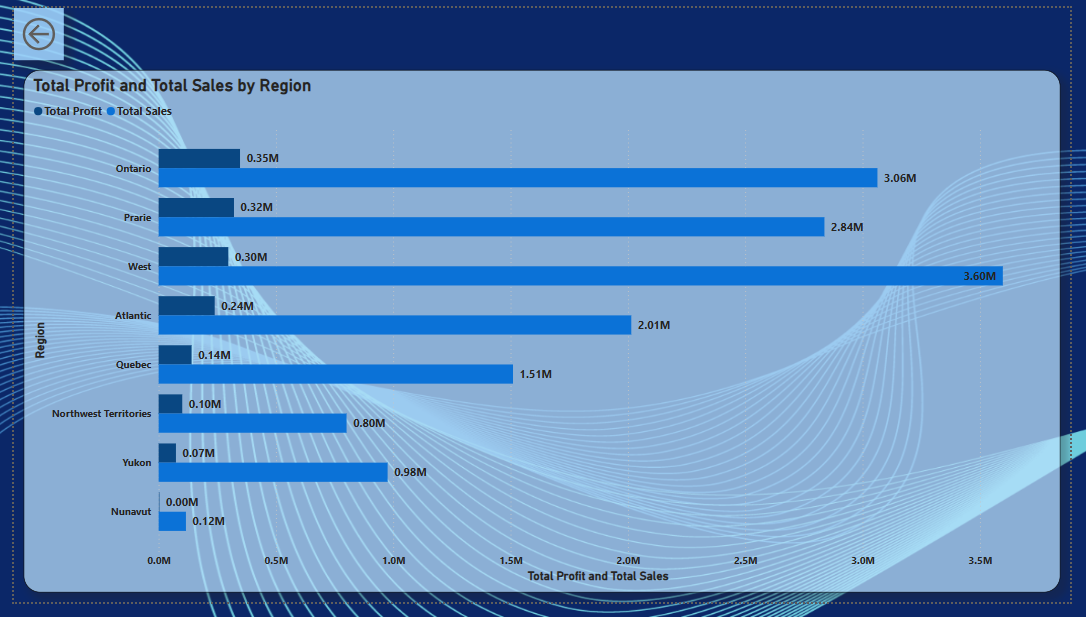

The page's visual inventory and layout, read from the dashboard file:
{"tool":"powerbi","page":{"name":"Page 2","canvas":[1280,720],"ordinal":1},"visuals":[{"type":"clusteredBarChart","fields":{"Category":["Orders.Region"],"Y":["Orders.Total Profit","Orders.Total Sales"]},"box":[11.7,75,1256.7,633.3],"z":0},{"type":"actionButton","box":[0,0,60,63.3],"z":1}]}

Visuals, with their boxes in screenshot pixels (x1, y1, x2, y2), scaled from the page's 1280x720 canvas onto the 1086x617 screenshot:
clusteredBarChart - Orders.Region x Orders.Total Profit: select_region(10, 64, 1076, 607)
actionButton: select_region(0, 0, 51, 54)
